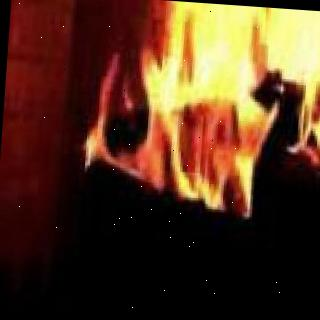fire: (162, 0, 320, 150)
